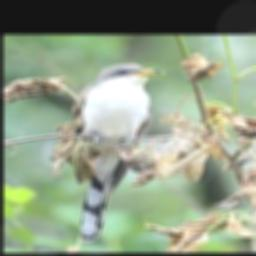Cuckoo: (73, 62, 165, 242)
